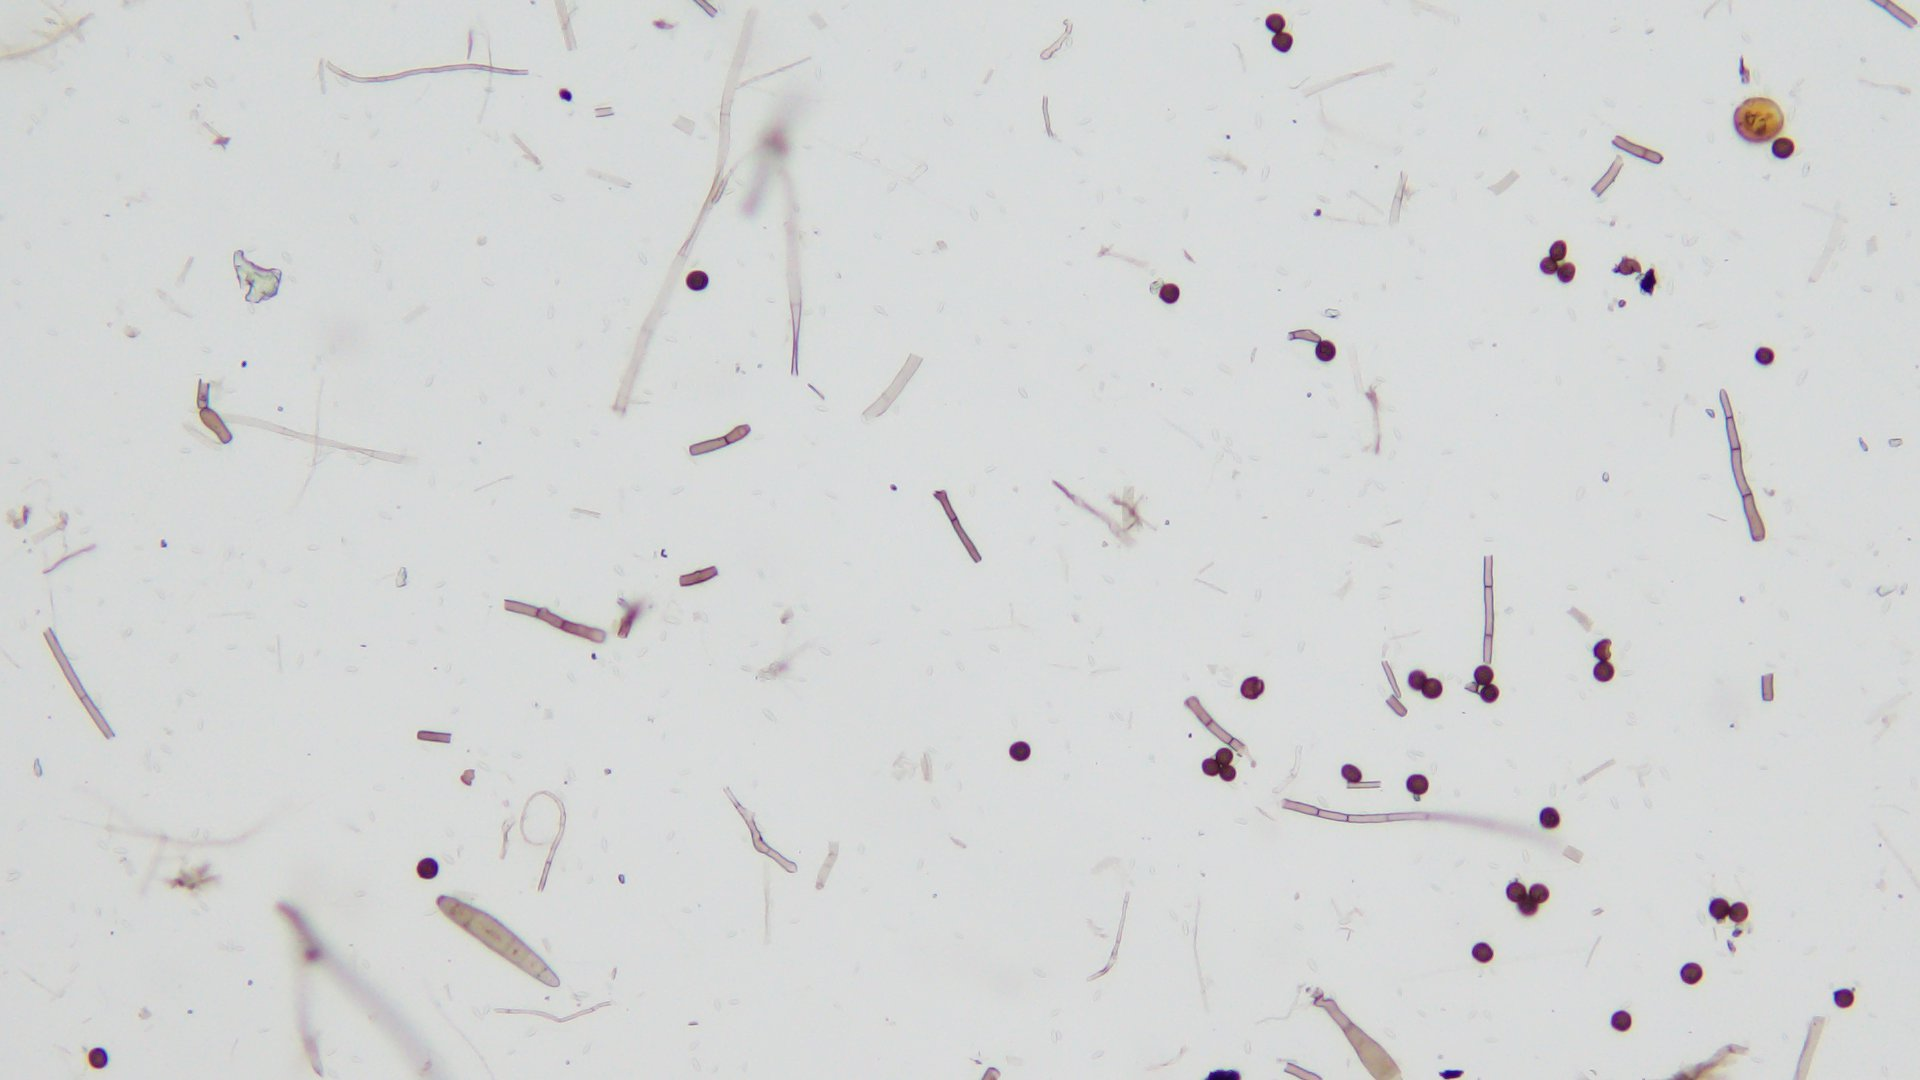dbb_spore: (434, 891, 562, 992)
shs_spore: (1240, 674, 1267, 699), (1726, 901, 1751, 924), (1007, 740, 1033, 764), (1312, 339, 1337, 361), (83, 1048, 109, 1069), (1594, 659, 1615, 686), (1469, 943, 1495, 964), (1539, 806, 1561, 829), (1158, 284, 1182, 305), (1477, 683, 1501, 704), (684, 270, 709, 290), (1404, 775, 1429, 795), (1549, 240, 1571, 262), (1557, 261, 1578, 284), (1681, 963, 1702, 985), (415, 858, 439, 878), (1472, 665, 1495, 684), (1199, 757, 1222, 777), (1833, 989, 1858, 1007), (1273, 32, 1294, 53), (1611, 1010, 1633, 1031), (1215, 745, 1237, 765), (1341, 762, 1364, 782), (1709, 898, 1729, 920), (1265, 13, 1286, 32), (1217, 765, 1238, 783), (1528, 885, 1549, 903), (1535, 258, 1556, 276), (1408, 669, 1425, 690), (1506, 884, 1527, 901), (1424, 680, 1444, 698), (1755, 345, 1774, 363)
xb_spore: (1729, 98, 1785, 144)
